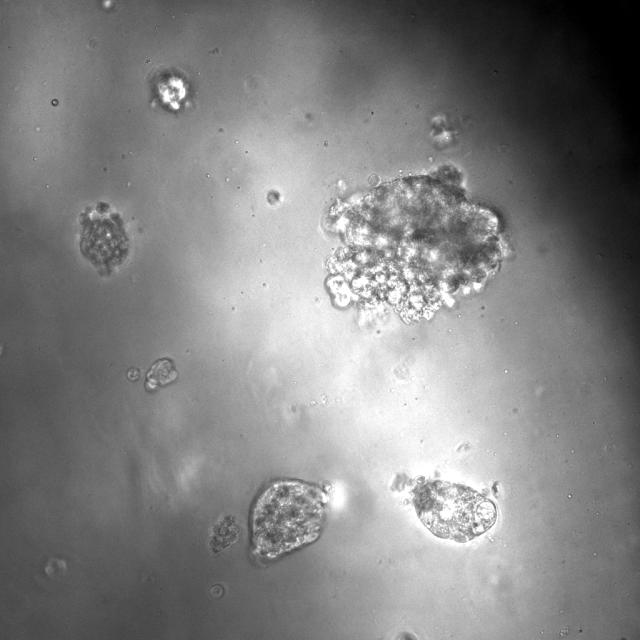organoid: (322, 164, 509, 326), (389, 471, 498, 542), (249, 478, 334, 561), (78, 202, 131, 276), (149, 68, 193, 114), (209, 515, 239, 554), (145, 358, 178, 392), (265, 188, 283, 208), (126, 366, 140, 381), (211, 584, 224, 599)
